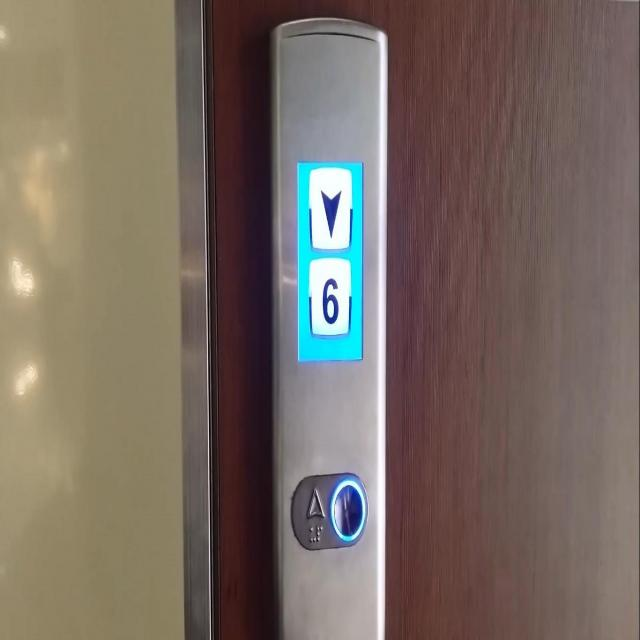led: (295, 153, 365, 365)
up: (288, 464, 369, 554)
